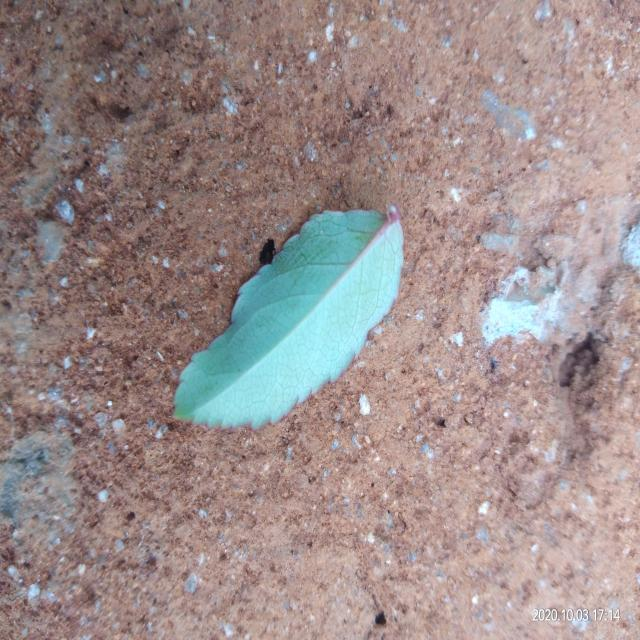rose: (174, 208, 402, 428)
